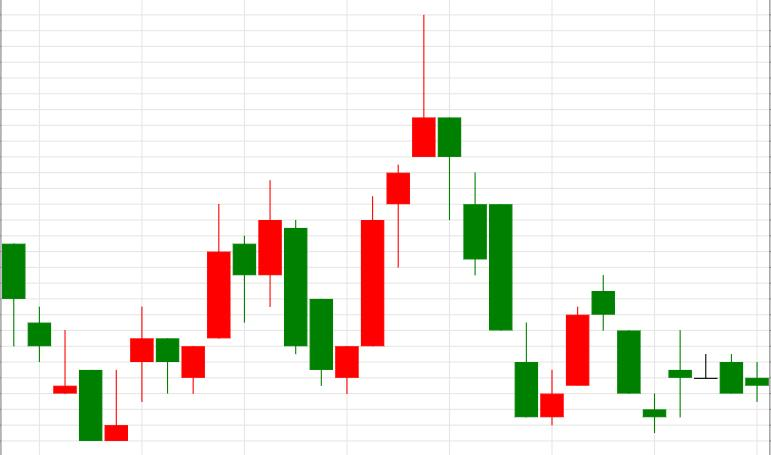hanging_man_fall: (335, 14, 461, 393)
shooting_star_fall: (336, 15, 435, 393)
